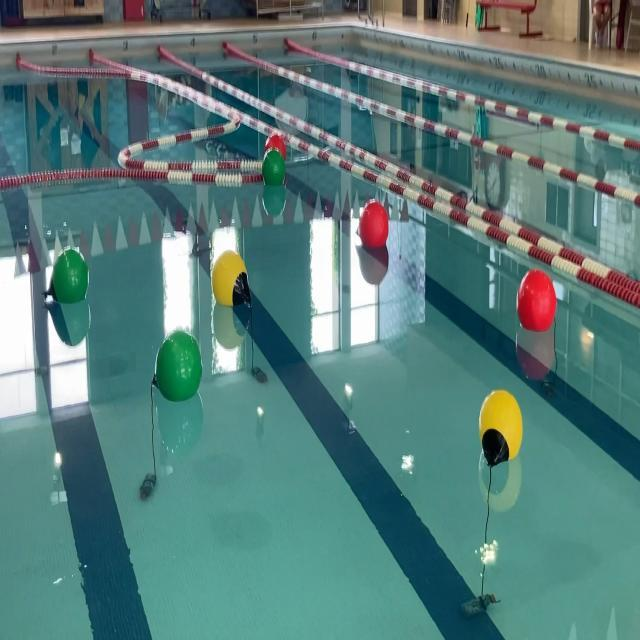buoy: (150, 330, 202, 402), (479, 388, 523, 468), (518, 268, 558, 334), (46, 246, 88, 308), (212, 248, 252, 310), (356, 200, 389, 253), (260, 150, 286, 188), (264, 133, 288, 159)
